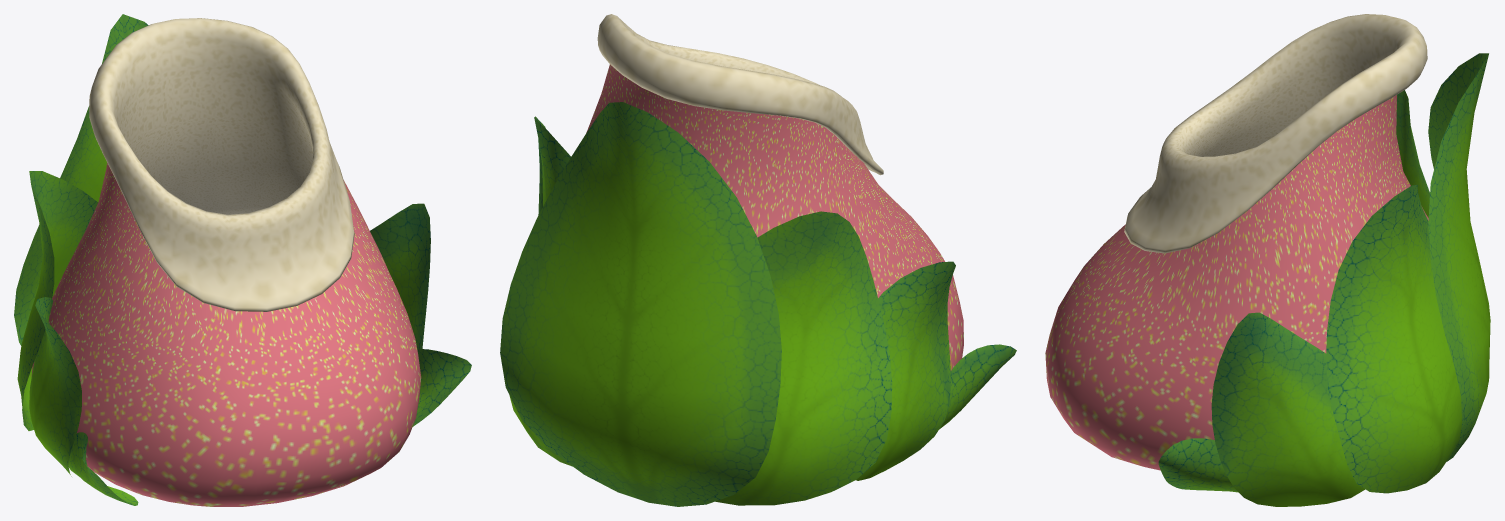
The model's file is Nepenthes.fbx.
The picture shows the model from 3 angles, left to right: view 1: azimuth 30°, elevation 25°; view 2: azimuth 150°, elevation 25°; view 3: azimuth 270°, elevation 25°; orthographic projection. The views are drawn at different scales.
Parts seen in each view (by area): view 1: Nepenthes_LOD0; view 2: Nepenthes_LOD0; view 3: Nepenthes_LOD0.
Part boxes in pixels (x1,y1,x2,y2): Nepenthes_LOD0: (14,14,471,506); Nepenthes_LOD0: (500,14,1016,506); Nepenthes_LOD0: (1045,14,1490,506).
Size of what is drawn, in the model's own units: 285 by 273 by 266.
